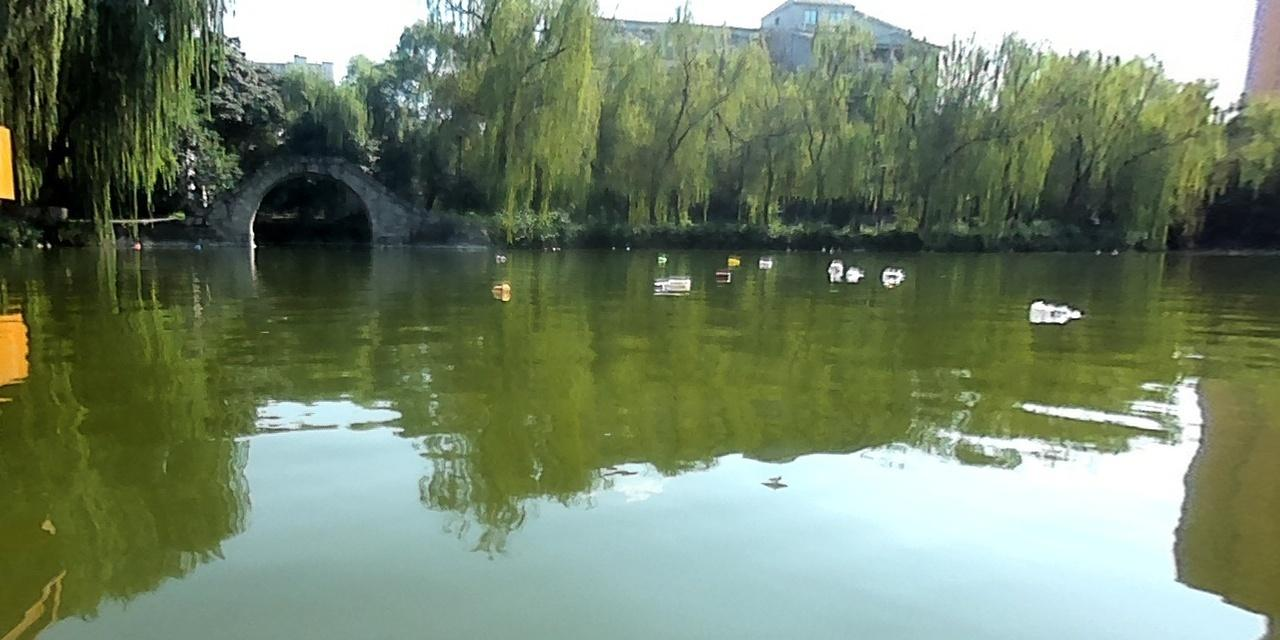bottle: (1028, 298, 1081, 323), (652, 274, 693, 292), (880, 267, 903, 281), (489, 280, 510, 295), (823, 260, 841, 276), (713, 269, 730, 283), (755, 257, 773, 269), (725, 254, 740, 267), (844, 267, 859, 277), (655, 254, 666, 263), (495, 252, 506, 261)
